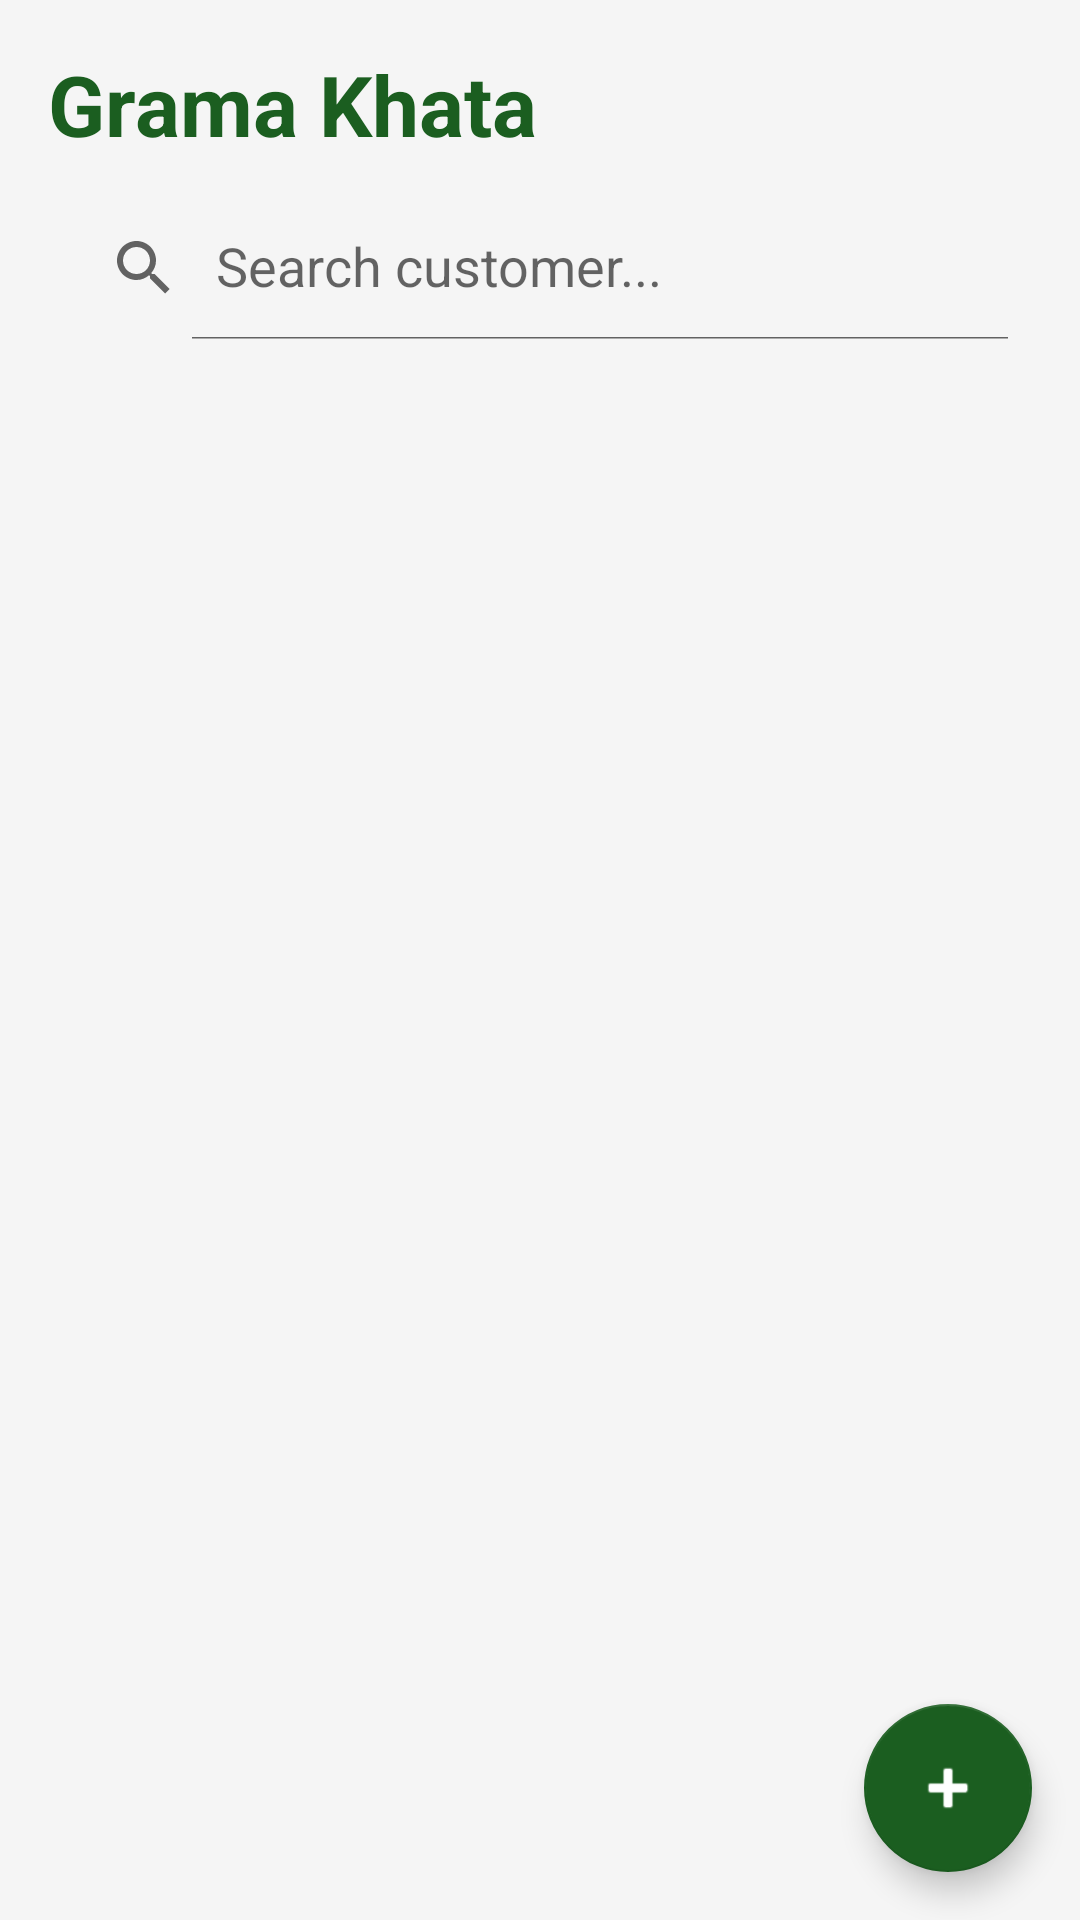

Icon click points for this 1080w x 1920h phone screenshot, format (x=x, y=y):
Add Customer: (x=948, y=1788)
